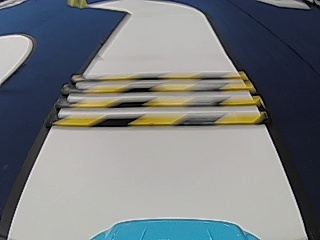bump: (46, 70, 269, 134)
